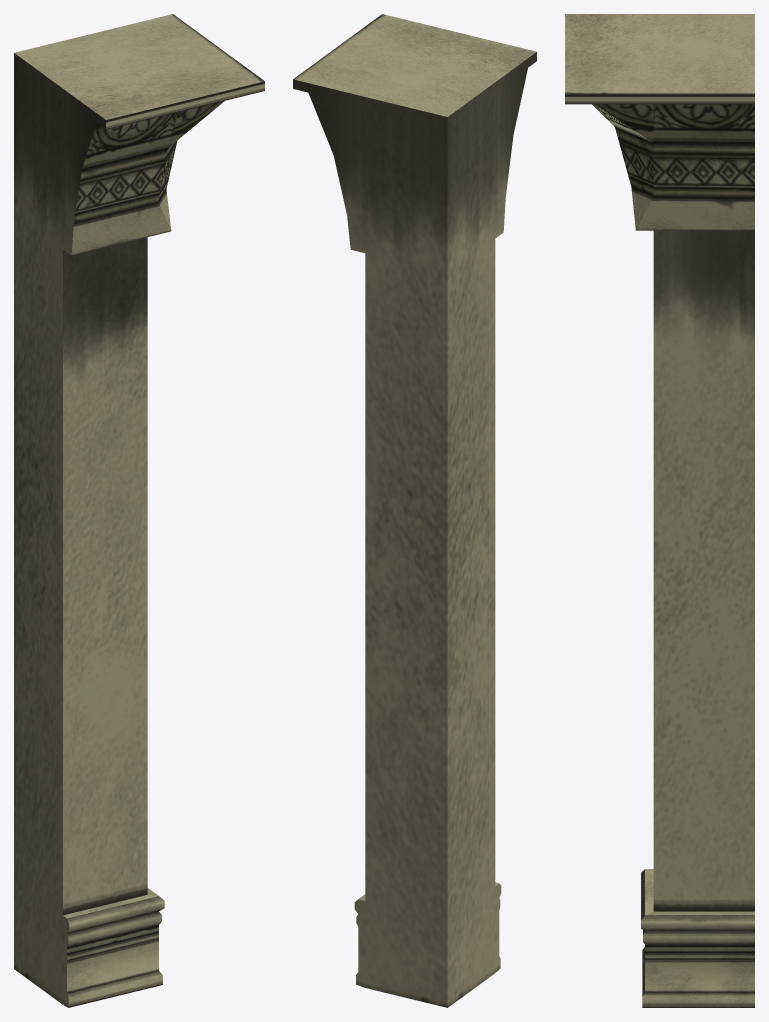
Rendered from Wall4.FBX.
The picture shows the model from 3 angles, left to right: view 1: azimuth 30°, elevation 25°; view 2: azimuth 150°, elevation 25°; view 3: azimuth 270°, elevation 25°; orthographic projection. The views are drawn at different scales.
Visible parts, largest first — view 1: Object019; view 2: Object019; view 3: Object019.
Part boxes in pixels (left/top/right/bottom): Object019: left=14, top=14, right=264, bottom=1007; Object019: left=293, top=14, right=536, bottom=1007; Object019: left=565, top=14, right=754, bottom=1007.
Size of the model in its own units: 12.5 by 68.8 by 12.5.
